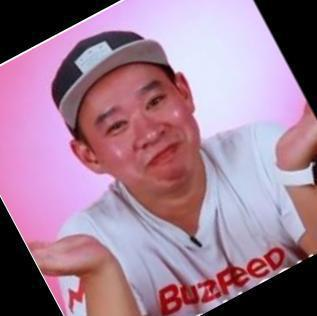Drunk: (88, 86, 198, 175)
